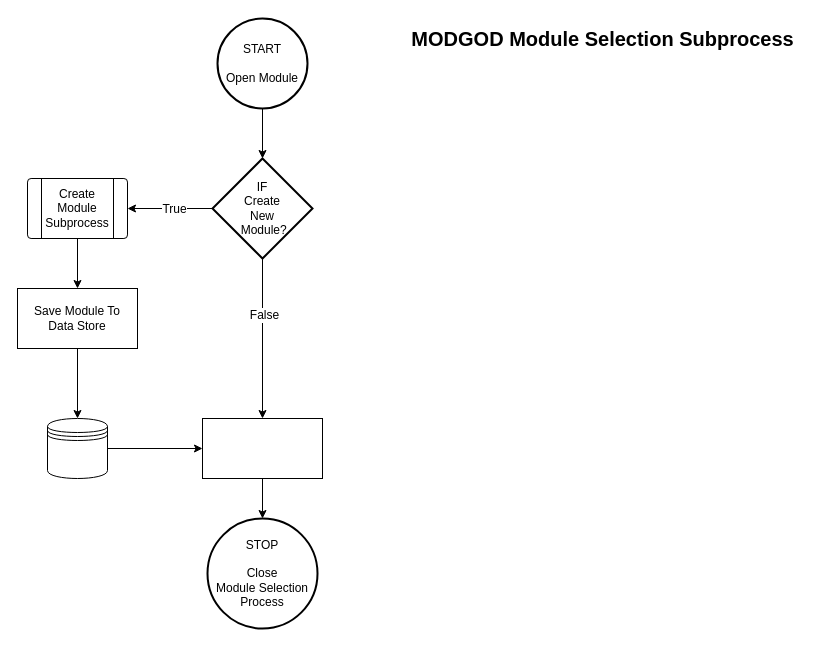
Some shapes in this 825 by 646 pixel diagram are drawn without their labels. The box of each missing label's shape, as (x1, y1, x2, y2) in pixels:
Data Storage: (46, 418, 108, 478)
Load Module From Data storage: (202, 418, 322, 478)
